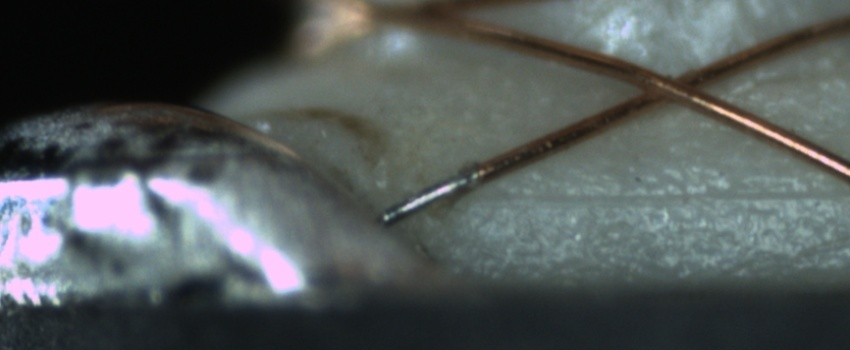CL: (613, 60, 735, 113)
DL: (465, 162, 850, 229)
TS: (372, 171, 479, 225)
